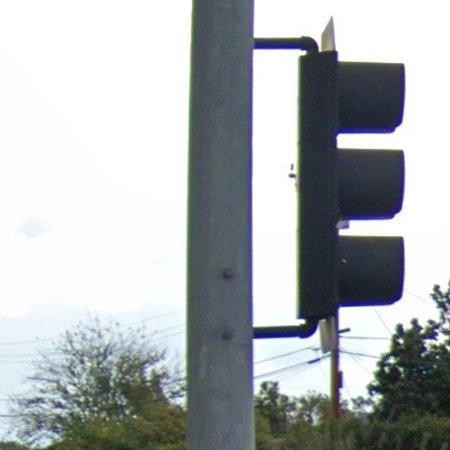traffic lights: (298, 50, 406, 319)
